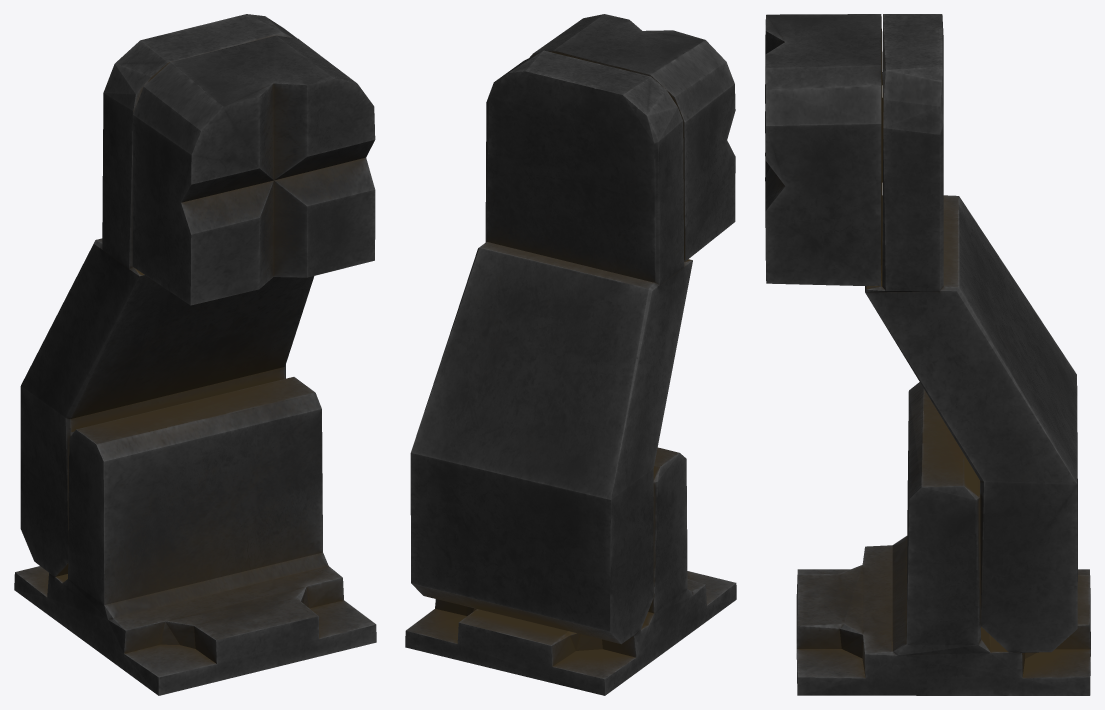
The model's file is finger.dae.
3 renders of one model, left to right at view 1: azimuth 30°, elevation 25°; view 2: azimuth 150°, elevation 25°; view 3: azimuth 270°, elevation 25°, orthographic. The views are drawn at different scales.
Visible parts, largest first — view 1: finger; view 2: finger; view 3: finger.
Part boxes in pixels (x1,y1,x2,y2): finger: (14, 14, 376, 695); finger: (405, 14, 736, 695); finger: (765, 14, 1090, 695).
Size of the model in its own units: 2.1 by 2.64 by 5.38.
Materials: 1 (1 with a texture image).
